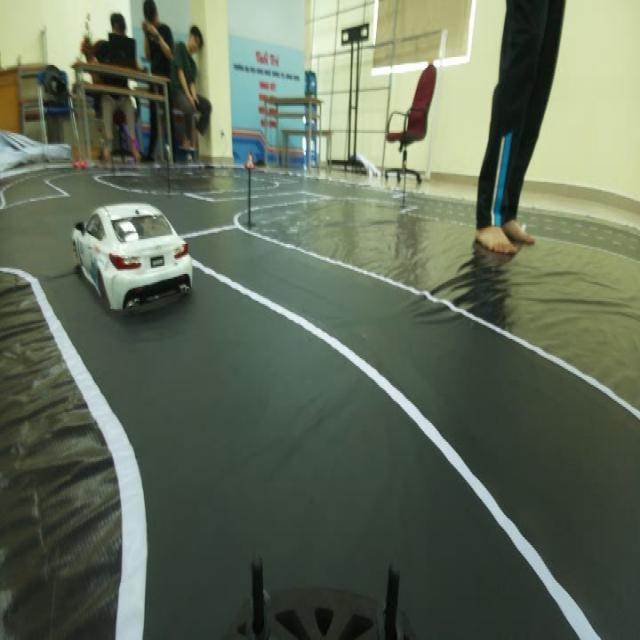car: (64, 196, 202, 322)
